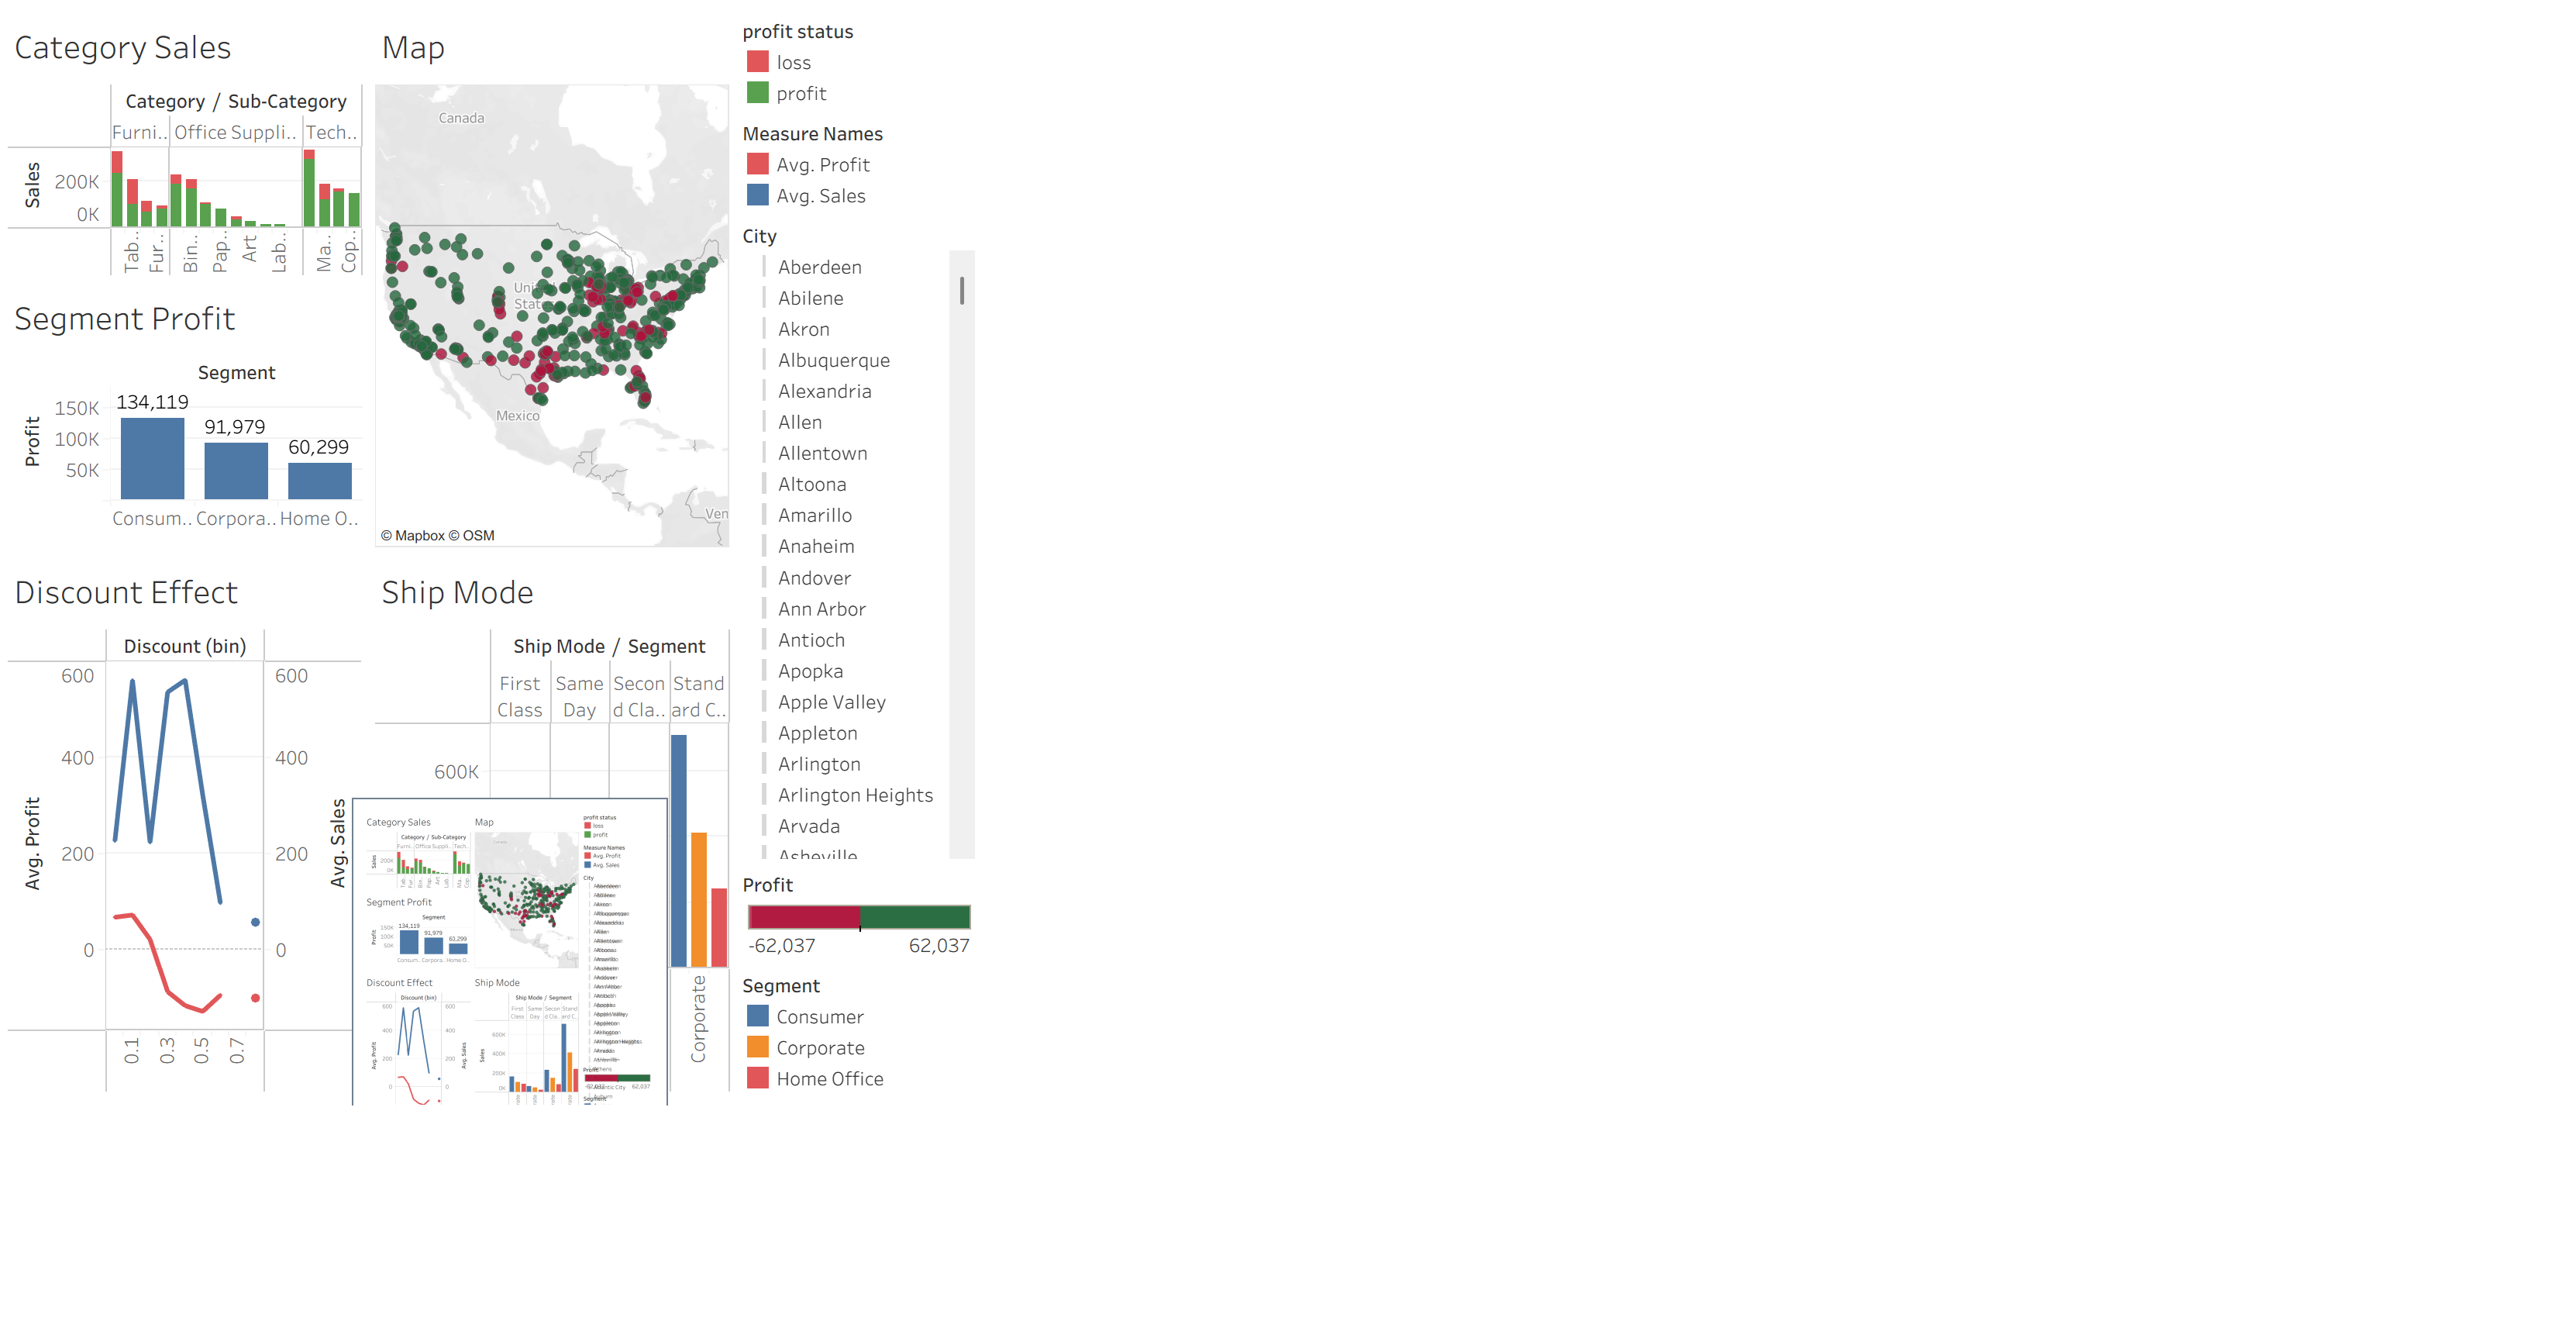

The page's visual inventory and layout, read from the dashboard file:
{"tool":"tableau","page":{"name":"Superstore Dashboard","canvas":[650,860],"ordinal":0},"visuals":[{"type":"worksheet","title":"Category Sales","mark":"Automatic","rows":["Sales"],"cols":["Category","Sub-Category"],"box":[8,9.6,237,210.2]},{"type":"worksheet","title":"Map","mark":"Multipolygon","box":[245,9.6,237,420.4]},{"type":"legend","title":"Category Sales","param":"[federated.10bourp1dvlln6113p79m059668s].[none:Calculation_1655100477583360:nk]","box":[482,9.6,160,79.2]},{"type":"legend","title":"Discount Effect","param":"[federated.10bourp1dvlln6113p79m059668s].[:Measure Names]","box":[482,88.8,160,79.2]},{"type":"legend","title":"Map","param":"[federated.10bourp1dvlln6113p79m059668s].[none:City:nk]","box":[482,167.9,160,501.4]},{"type":"worksheet","title":"Segment Profit","mark":"Automatic","rows":["Profit"],"cols":["Segment"],"box":[8,219.8,237,210.2]},{"type":"worksheet","title":"Discount Effect","mark":"Line","rows":["Profit","Sales"],"cols":["Discount (bin)"],"box":[8,430,237,420.4]},{"type":"worksheet","title":"Ship Mode","mark":"Automatic","rows":["Sales"],"cols":["Ship Mode","Segment"],"box":[245,430,237,420.4]},{"type":"legend","title":"Map","param":"[federated.10bourp1dvlln6113p79m059668s].[sum:Profit:qk]","box":[482,669.3,160,78]},{"type":"legend","title":"Ship Mode","param":"[federated.10bourp1dvlln6113p79m059668s].[none:Segment:nk]","box":[482,747.2,160,103.2]}]}

Visuals, with their boxes on the page's 650x860 design canvas (x1, y1, x2, y2). These are canvas units, not pixel positions in the 2576x1328 screenshot, which may show the page scaled, cropped or inside an application window:
"Category Sales" worksheet: detection(8, 10, 245, 220)
"Map" worksheet (Multipolygon marks): detection(245, 10, 482, 430)
"Category Sales" legend: detection(482, 10, 642, 89)
"Discount Effect" legend: detection(482, 89, 642, 168)
"Map" legend: detection(482, 168, 642, 669)
"Segment Profit" worksheet: detection(8, 220, 245, 430)
"Discount Effect" worksheet (Line marks): detection(8, 430, 245, 850)
"Ship Mode" worksheet: detection(245, 430, 482, 850)
"Map" legend: detection(482, 669, 642, 747)
"Ship Mode" legend: detection(482, 747, 642, 850)
